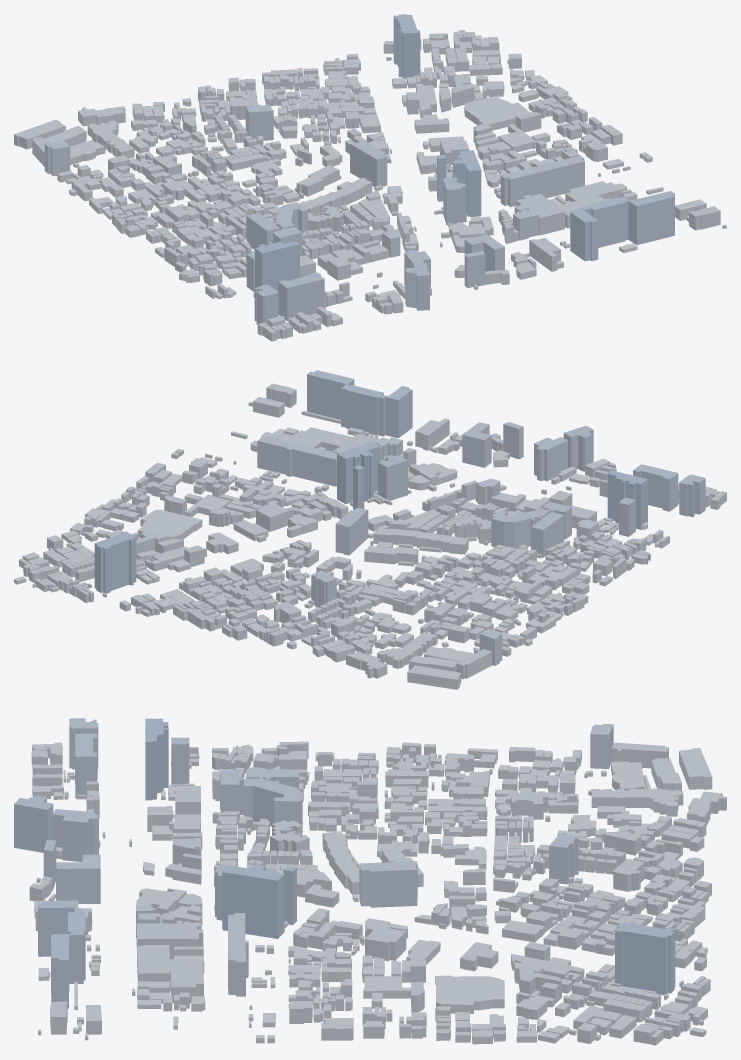
The picture shows the model from 3 angles, top to bottom: view 1: azimuth 30°, elevation 25°; view 2: azimuth 150°, elevation 25°; view 3: azimuth 270°, elevation 25°; orthographic projection. The views are drawn at different scales.
Bounding box in the file's own units: 513 × 47.61 × 526.
